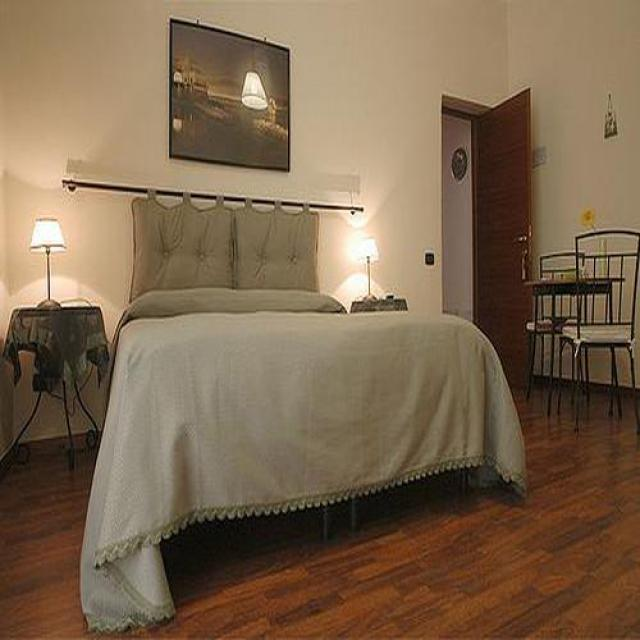bed: (78, 193, 527, 635)
